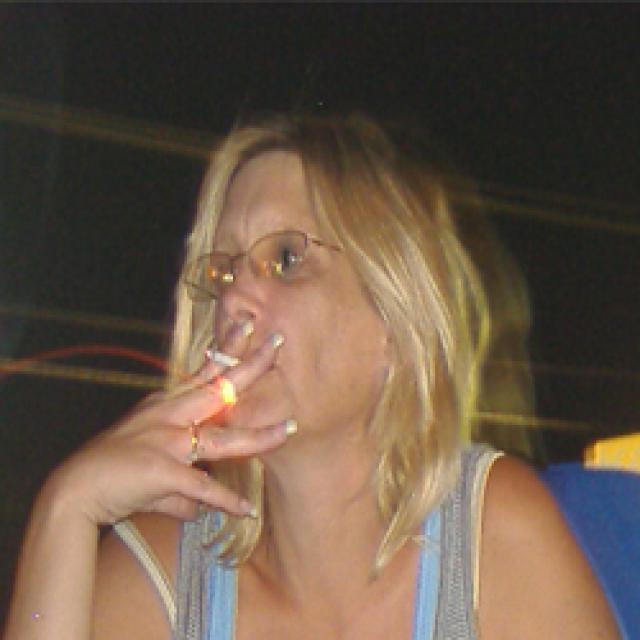Smooking: (198, 339, 241, 380)
